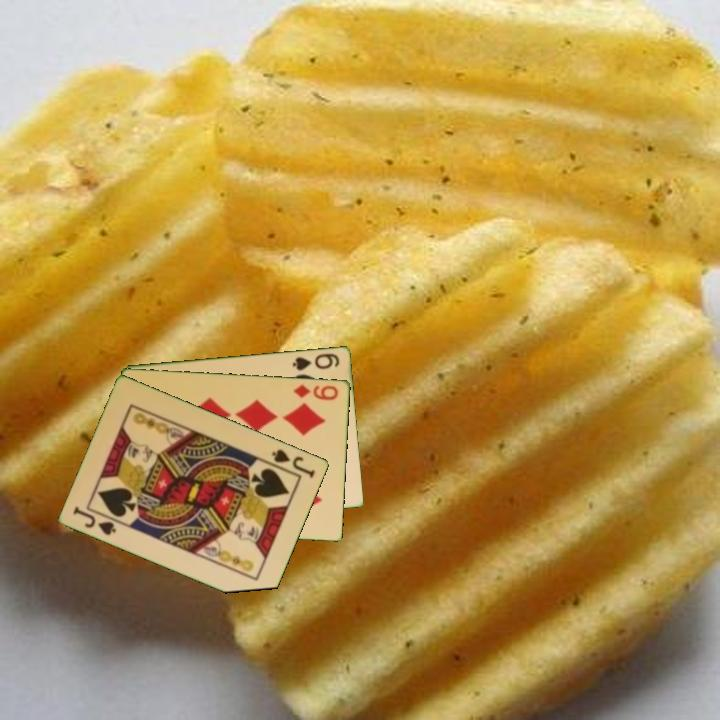6s: (289, 349, 343, 373)
9d: (290, 380, 341, 403)
Js: (268, 445, 318, 481), (70, 503, 120, 538)
